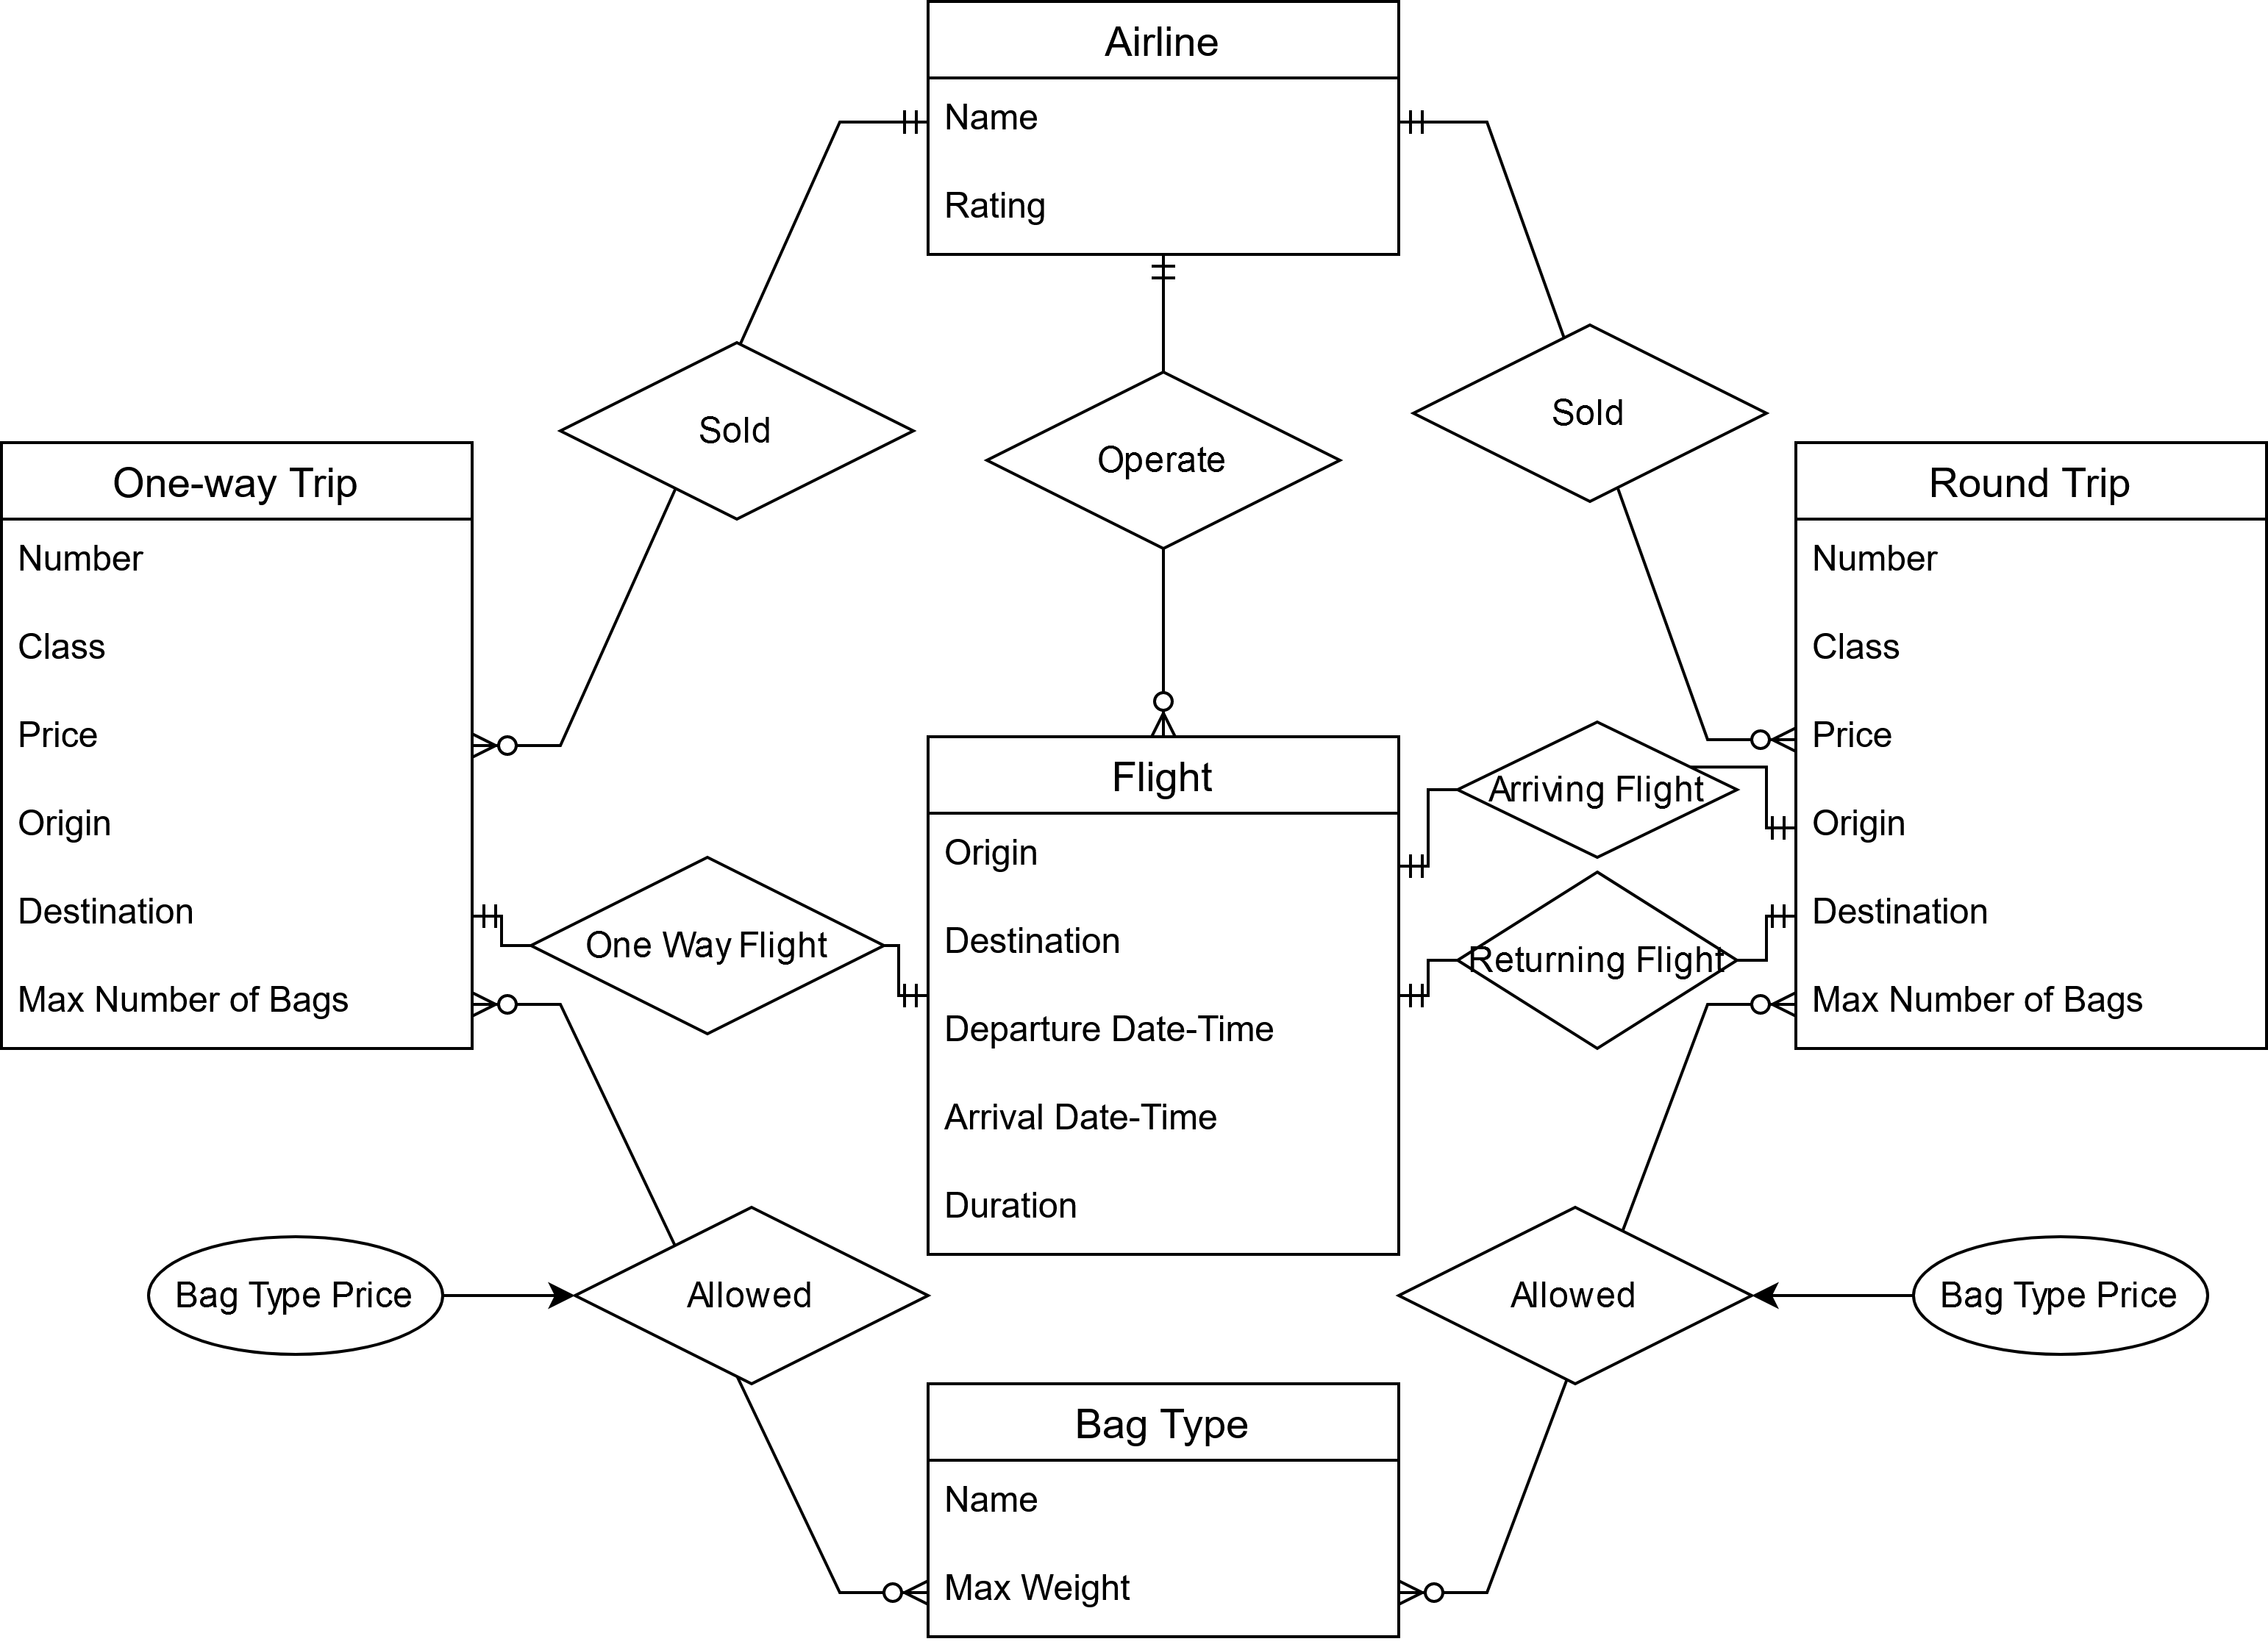entity: (1793, 447, 2268, 1052), (0, 445, 474, 1043), (926, 739, 1403, 1256), (931, 1383, 1405, 1642), (926, 2, 1400, 259)
many: (836, 1577, 931, 1614), (474, 728, 562, 767), (1703, 989, 1798, 1024), (470, 989, 560, 1024), (1703, 725, 1796, 758), (1150, 653, 1183, 737), (1400, 1577, 1490, 1607)
one: (1152, 252, 1182, 375), (838, 106, 928, 141), (1402, 106, 1483, 139), (1763, 899, 1796, 931), (900, 977, 928, 1012), (1768, 809, 1796, 845), (1398, 852, 1432, 880), (474, 904, 509, 931), (1400, 980, 1428, 1012)
rel: (558, 341, 916, 519), (1402, 1207, 1750, 1380), (534, 859, 879, 1031), (1416, 327, 1768, 496), (585, 1211, 931, 1380), (993, 382, 1337, 544), (1456, 869, 1736, 1047), (1458, 718, 1741, 857)
rel_attr: (1912, 1233, 2206, 1358), (148, 1233, 447, 1355)
